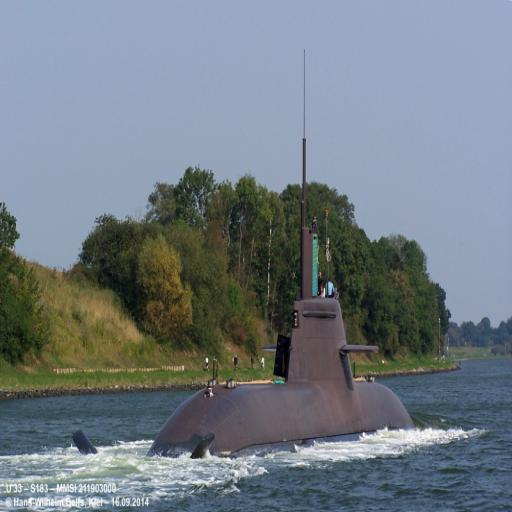submarine: (75, 134, 427, 457)
